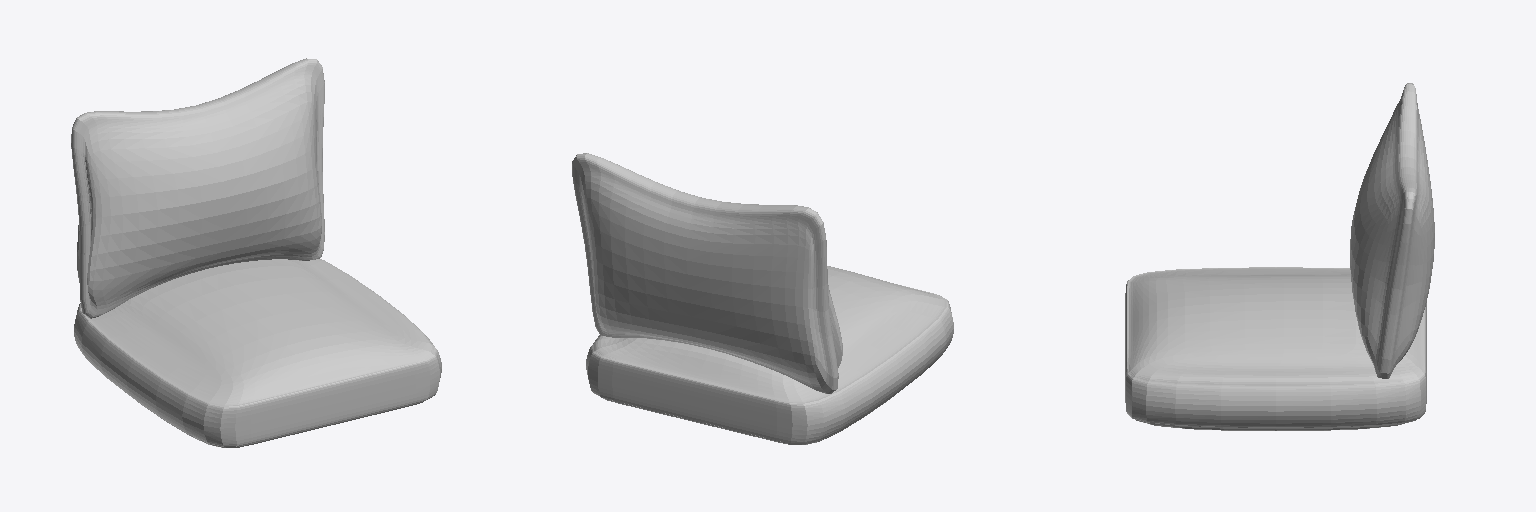
Rendered from SetA_Chair_Style_02_Cushions.obj.
The picture shows the model from 3 angles: view 1: azimuth 30°, elevation 25°; view 2: azimuth 150°, elevation 25°; view 3: azimuth 270°, elevation 25°; orthographic projection.
Parts seen in each view (by area): view 1: SetA_Chair_Style_02_Cushions; view 2: SetA_Chair_Style_02_Cushions; view 3: SetA_Chair_Style_02_Cushions.
Part boxes in pixels (x1,y1,x2,y2): SetA_Chair_Style_02_Cushions: (71, 58, 441, 447); SetA_Chair_Style_02_Cushions: (572, 153, 953, 444); SetA_Chair_Style_02_Cushions: (1125, 83, 1434, 430).
Bounding box in the file's own units: 0.7661 × 0.6749 × 0.782.